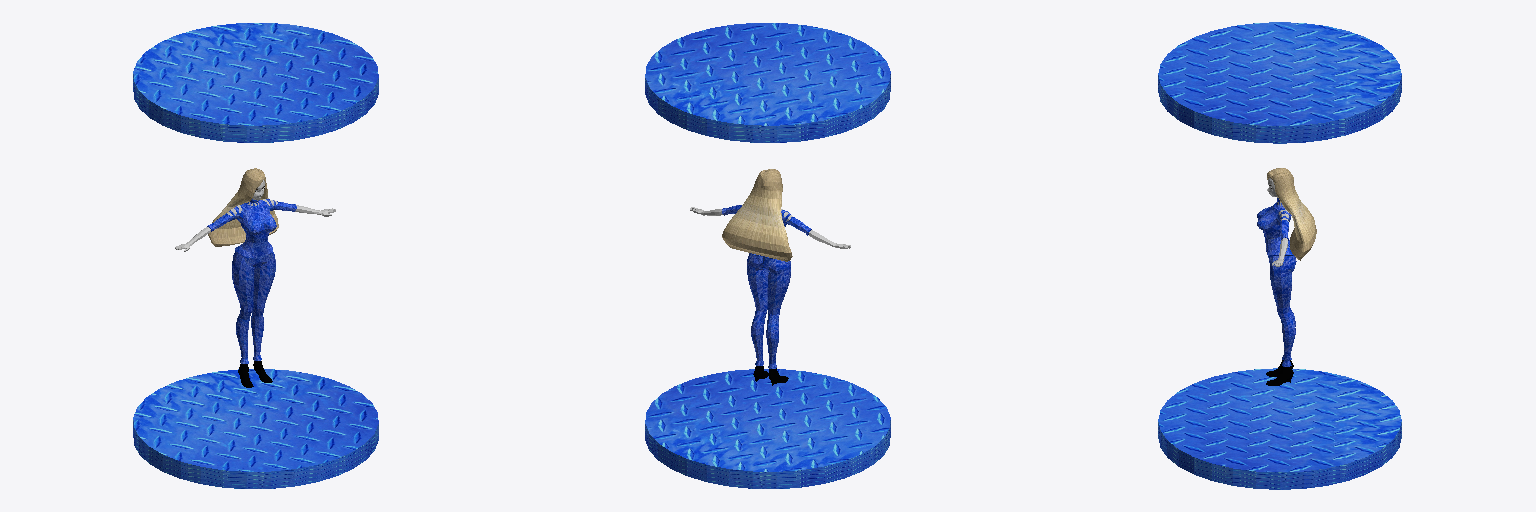
3 renders of one model, left to right at view 1: azimuth 30°, elevation 25°; view 2: azimuth 150°, elevation 25°; view 3: azimuth 270°, elevation 25°, orthographic.
Visible parts, largest first — view 1: Cilindro.002, Cilindro, Body.001, Body.004, Sphere.003, Body.002; view 2: Cilindro.002, Cilindro, Sphere.003, Body.001; view 3: Cilindro.002, Cilindro, Sphere.003, Body.001, Body.004.
Boxes of the visible parts, x1,y1,x2,y2 form: Cilindro.002: [133, 23, 378, 142]; Cilindro: [133, 369, 378, 488]; Body.001: [232, 251, 275, 363]; Body.004: [208, 199, 296, 257]; Sphere.003: [208, 168, 278, 246]; Body.002: [175, 180, 335, 255]; Cilindro.002: [645, 23, 890, 142]; Cilindro: [645, 369, 890, 488]; Sphere.003: [722, 169, 792, 261]; Body.001: [747, 253, 790, 368]; Cilindro.002: [1158, 22, 1401, 143]; Cilindro: [1158, 368, 1401, 489]; Sphere.003: [1267, 168, 1316, 260]; Body.001: [1268, 255, 1296, 366]; Body.004: [1257, 199, 1292, 254].
Bounding box in the file's own units: 4.77 × 7.76 × 4.71.
Materials: 10 (4 with a texture image).